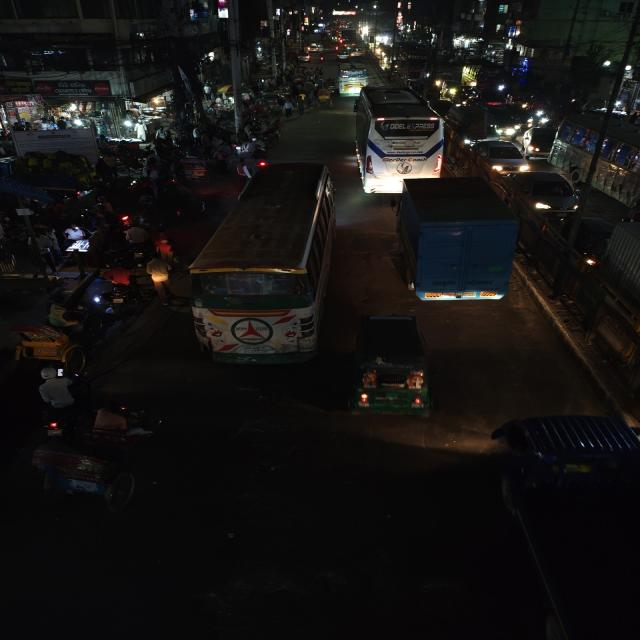bus: (183, 160, 339, 370), (350, 82, 450, 198), (550, 108, 640, 208), (457, 62, 506, 96), (334, 59, 368, 98)
car: (516, 170, 580, 216), (468, 138, 534, 180), (523, 127, 553, 158)
cng: (348, 309, 438, 424)
motorcycle: (105, 252, 139, 318), (248, 142, 272, 170)
pedestrian: (145, 255, 173, 306), (282, 100, 293, 118)
pickup_van: (484, 410, 640, 640)
rickshaw: (30, 400, 193, 514), (11, 297, 109, 384), (315, 89, 332, 112)
truck: (392, 176, 516, 304)
